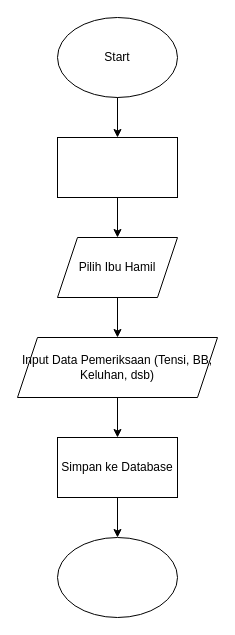
Image size: 235x635. Some labels were removed from this diagram. Each missing label, with the box of its shape:
Pilih Menu Pemeriksaan Ibu: (56, 136, 178, 198)
Stop: (56, 536, 178, 618)
